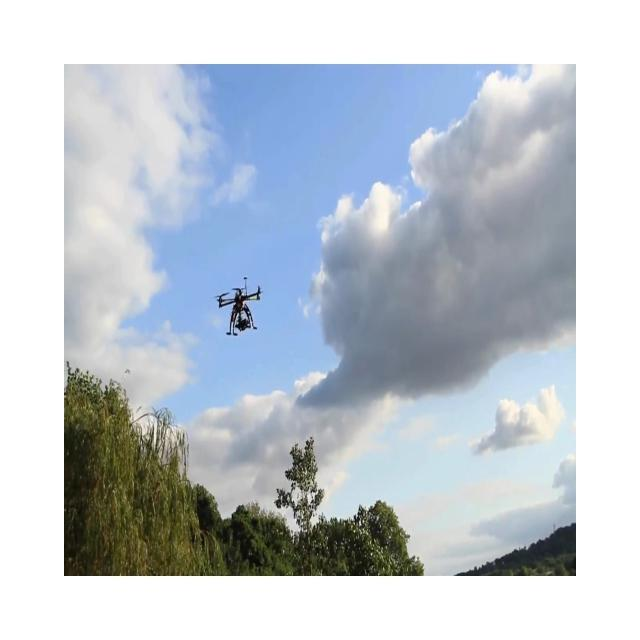drone: (213, 276, 263, 336)
